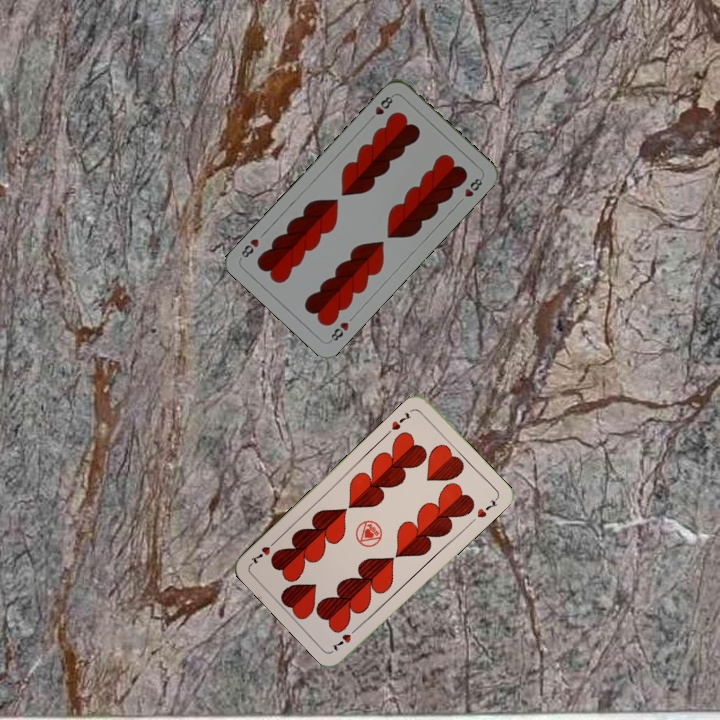H7: (327, 623, 361, 653), (383, 408, 414, 437)
H8: (365, 91, 396, 124), (326, 318, 351, 345)
